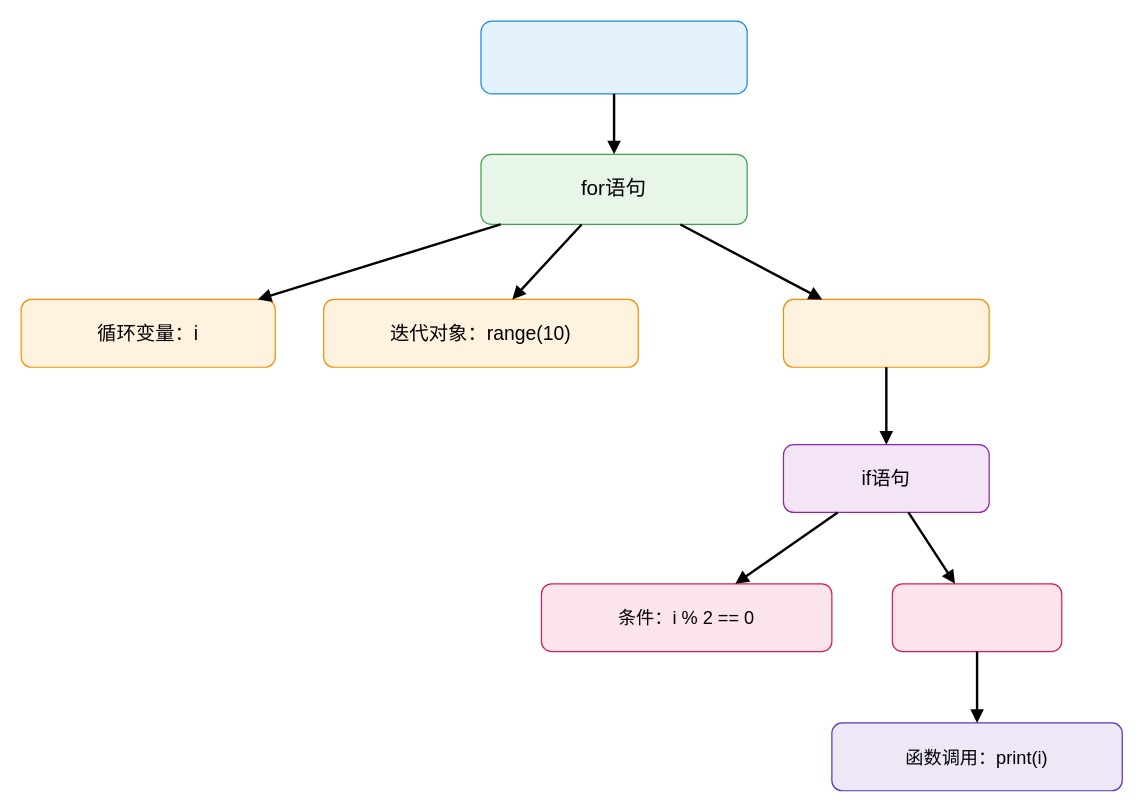
This 1143x812 diagram has some shape labels left out. The centre of each missing label's shape, as x and y in pixels:
"分支体" goes at point 976,617.
"循环体" goes at point 885,332.
"程序结构" goes at point 613,57.
